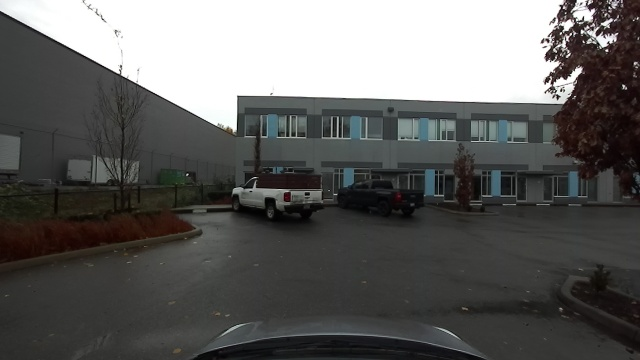car: (228, 170, 327, 221), (333, 178, 426, 218)
